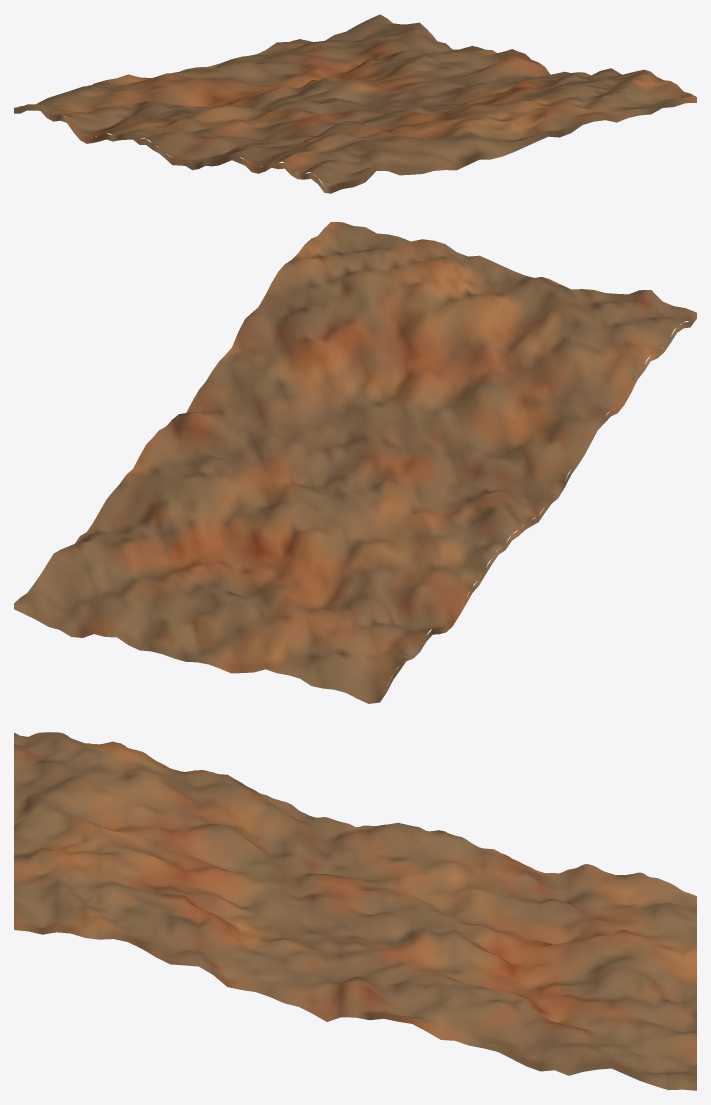
The model's file is terrain-130.glb.
3 views of the same model, one above another, from view 1: azimuth 30°, elevation 25°; view 2: azimuth 150°, elevation 25°; view 3: azimuth 270°, elevation 25° (orthographic). The views are drawn at different scales.
Visible parts, largest first — view 1: terrain-130; view 2: terrain-130; view 3: terrain-130.
Boxes of the visible parts, bbox=[...] form: terrain-130: bbox=[14, 14, 696, 193]; terrain-130: bbox=[14, 222, 696, 703]; terrain-130: bbox=[14, 732, 696, 1090].
Bounding box in the file's own units: 256 × 120 × 384.
